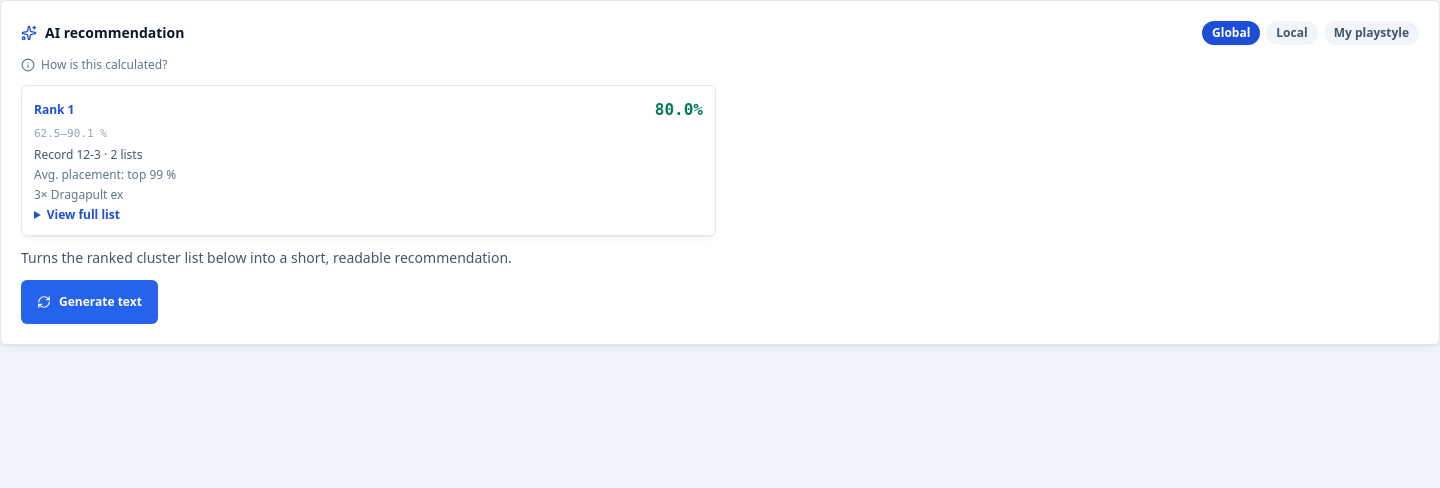
Test: ArchetypeRecommendationPanel — initial load › reveals the cluster's full decklist (all three card groups) behind a toggle
Expected: the text "Boss's Orders" is not shown
Expected: the text "Basic Psychic Energy" is not shown
Click the heading with test id "archetype-recommendation-cluster-decklist-toggle" at [77, 214], box [34,206,120,222]
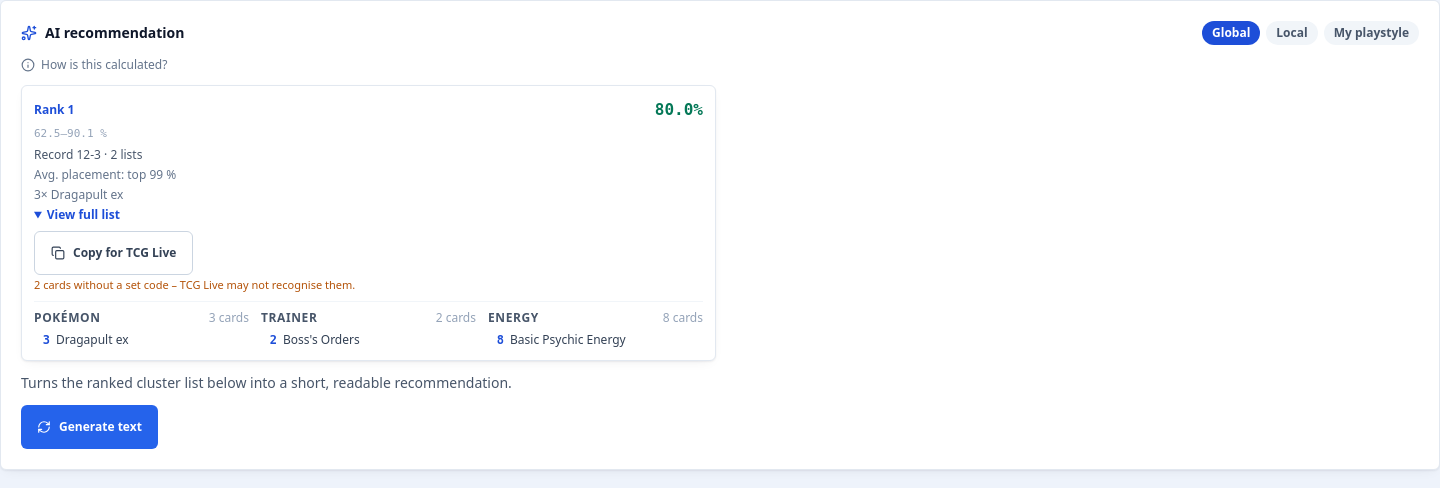
Expected: the text "Dragapult ex" is shown, [56,332,128,348]
Expected: the text "Boss's Orders" is shown, [283,332,360,348]
Expected: the text "Basic Psychic Energy" is shown, [510,332,626,348]
